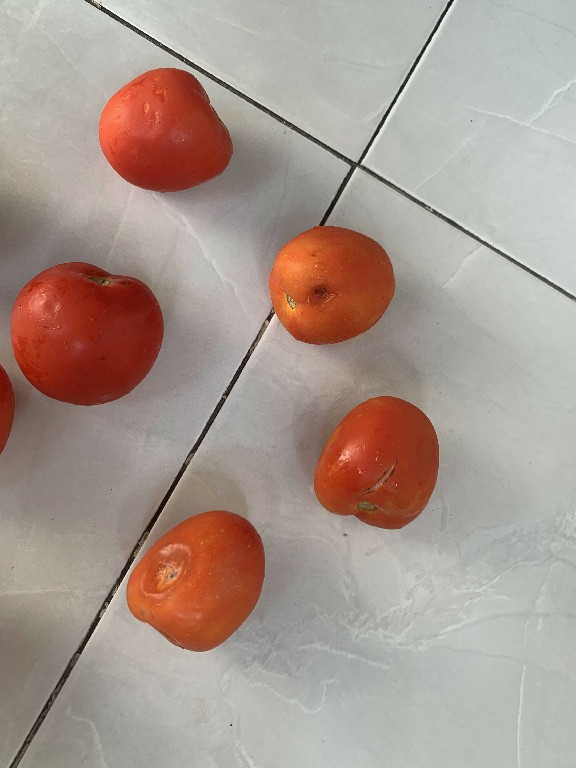NG: (116, 508, 274, 654), (303, 385, 449, 540), (268, 223, 401, 347)
OK: (4, 253, 170, 408), (90, 61, 240, 198)
